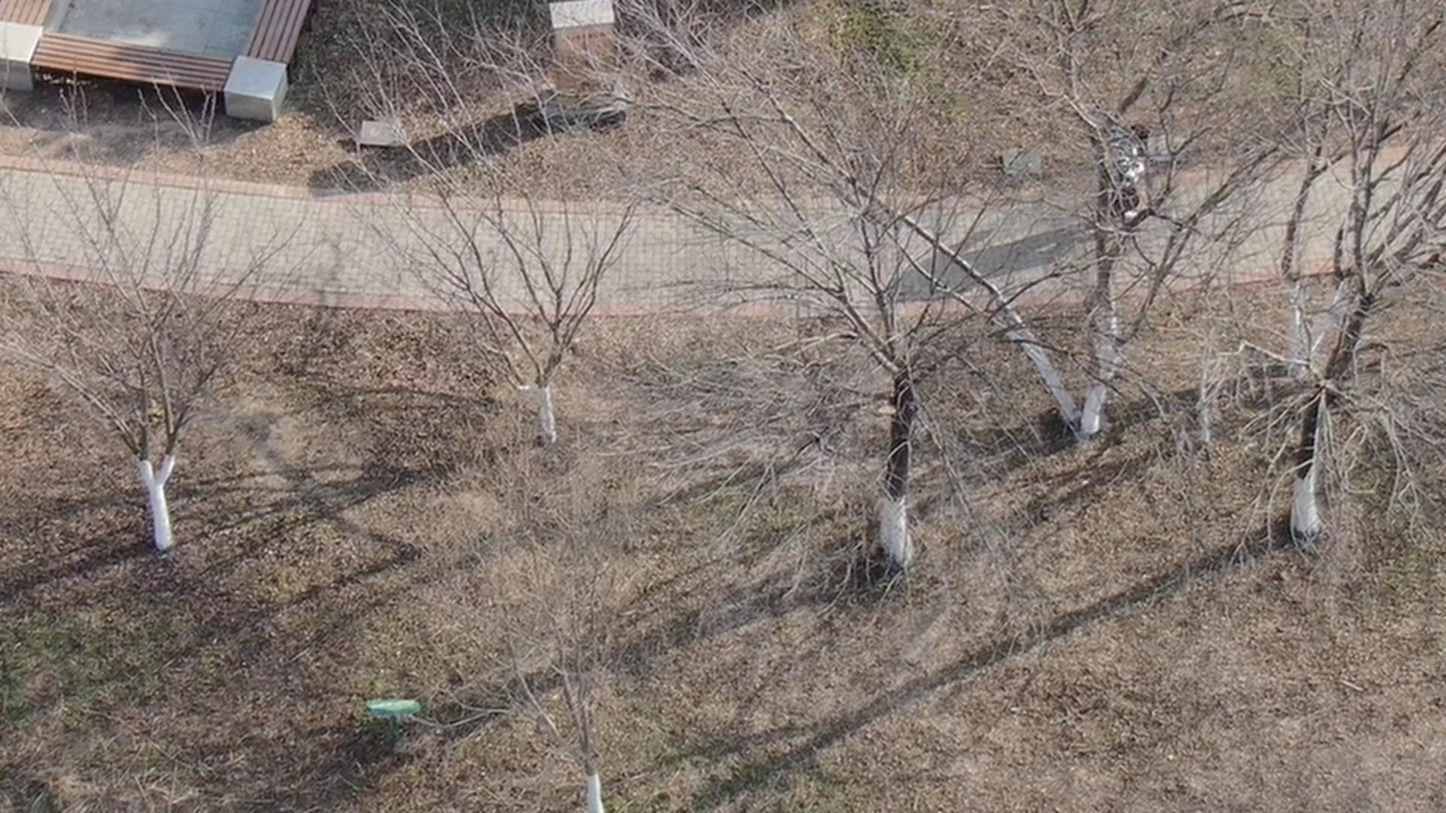human: (1099, 148, 1152, 259)
